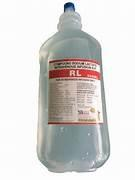Iv_Bottle: (37, 2, 109, 171)
